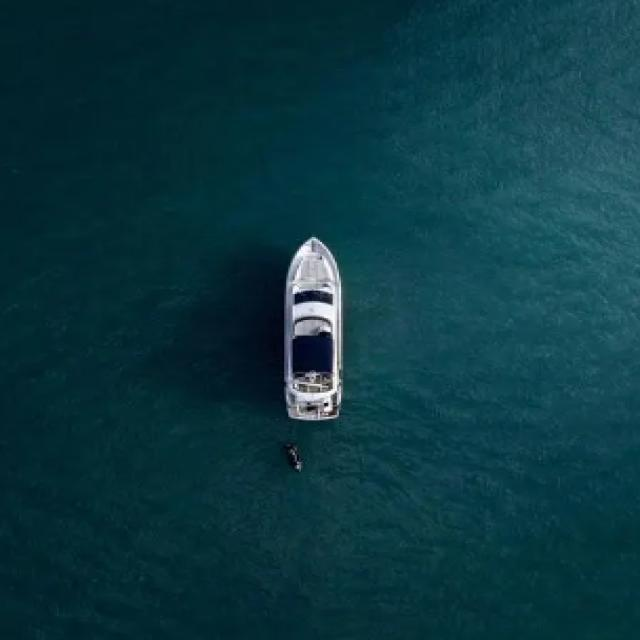houseboat: (250, 231, 374, 428)
